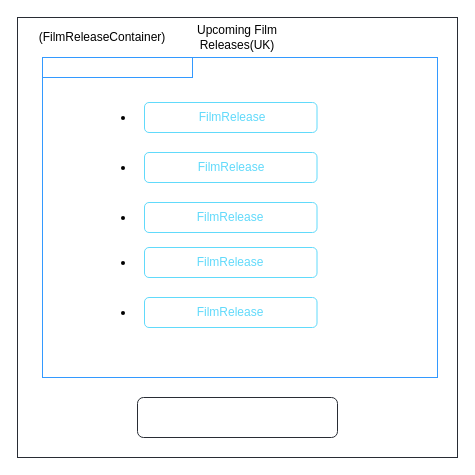
Some shapes in this 475 by 475 pixel diagram are drawn without their labels. The shapes that lost their labels are listed below. From the top down, each one's centre as x and y in pixels, then its label:
[117,67]: (FilmReleaseList)
[237,417]: See More
